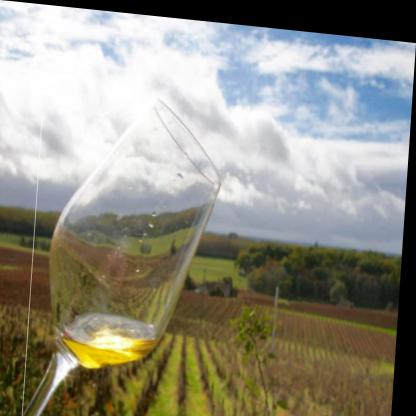alcohol_glass: (27, 85, 228, 415)
